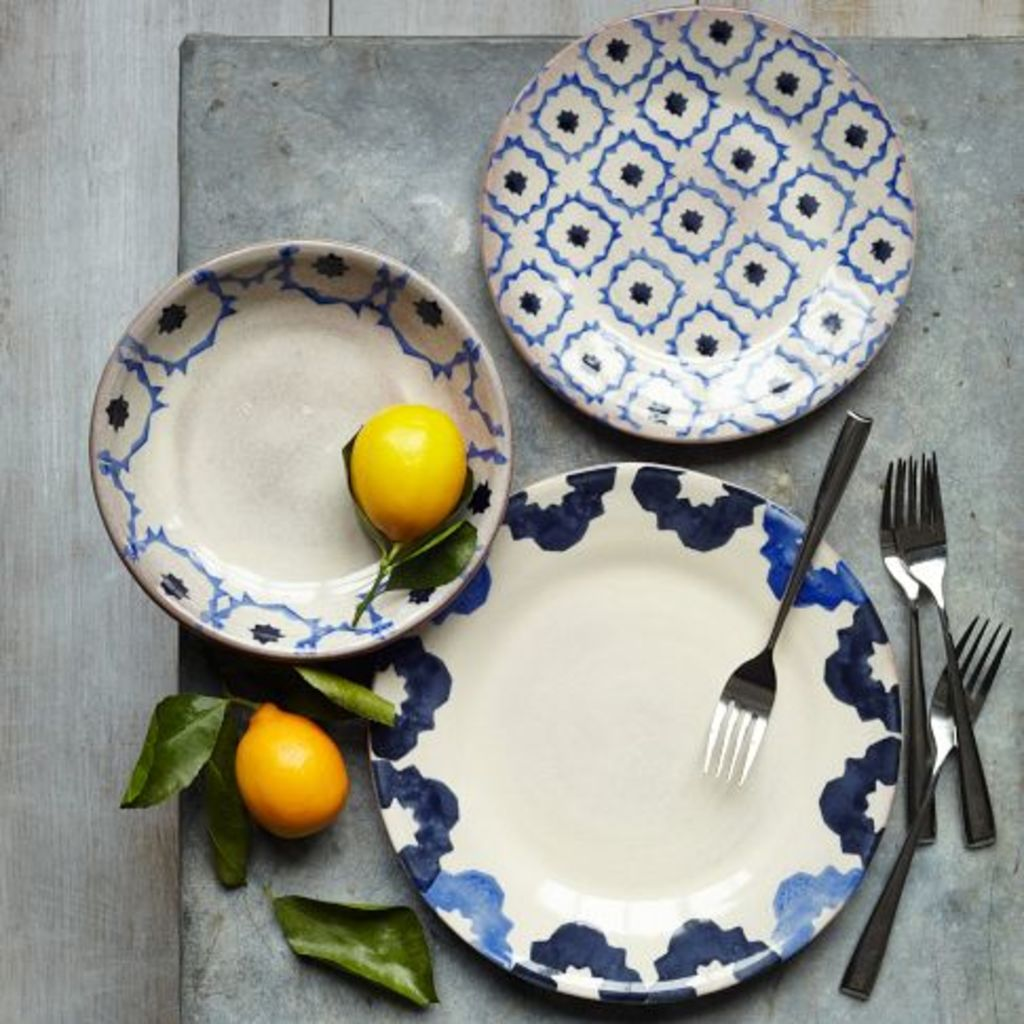plate: (475, 10, 916, 447)
